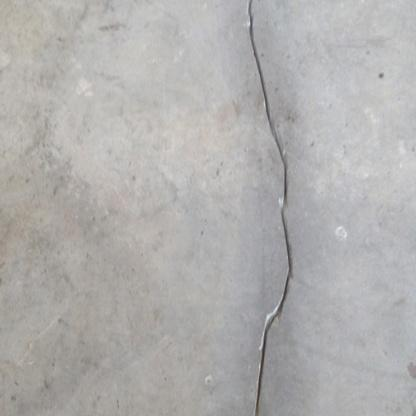Cracks: (245, 0, 297, 416)
